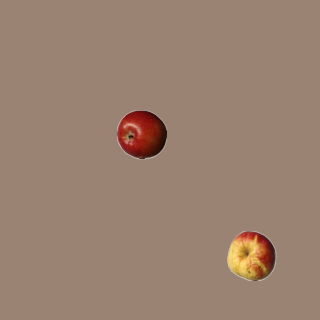Apple Braeburn: (116, 109, 166, 159)
Apple Red Yellow 1: (226, 230, 276, 280)
